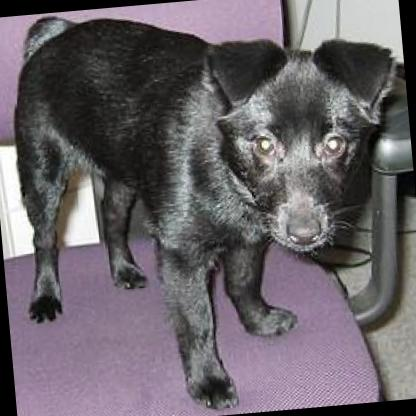schipperke: (2, 0, 416, 416)
